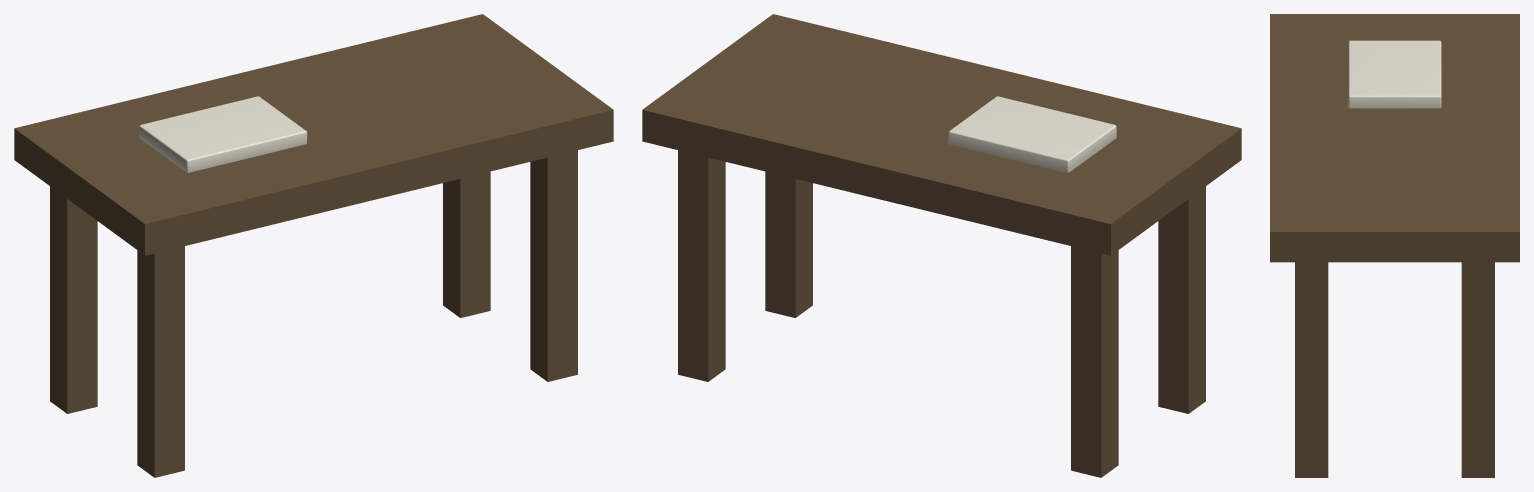
File: desk.glb
The picture shows the model from 3 angles, left to right: view 1: azimuth 30°, elevation 25°; view 2: azimuth 150°, elevation 25°; view 3: azimuth 270°, elevation 25°; orthographic projection. The views are drawn at different scales.
Visible parts, largest first — view 1: desk top, writing folio; view 2: desk top, writing folio; view 3: desk top, writing folio.
Boxes of the visible parts, bbox=[...] form: desk top: bbox=[14, 14, 613, 477]; writing folio: bbox=[139, 96, 307, 172]; desk top: bbox=[642, 14, 1241, 477]; writing folio: bbox=[948, 96, 1116, 172]; desk top: bbox=[1270, 14, 1519, 477]; writing folio: bbox=[1348, 40, 1441, 108].
Size of the model in its own units: 1.55 by 0.8925 by 0.75.
